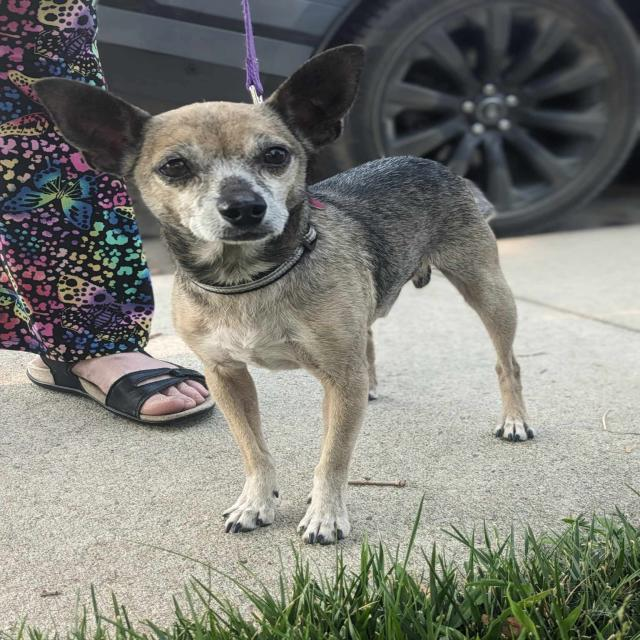chihuahua_dog: (28, 44, 398, 266)
